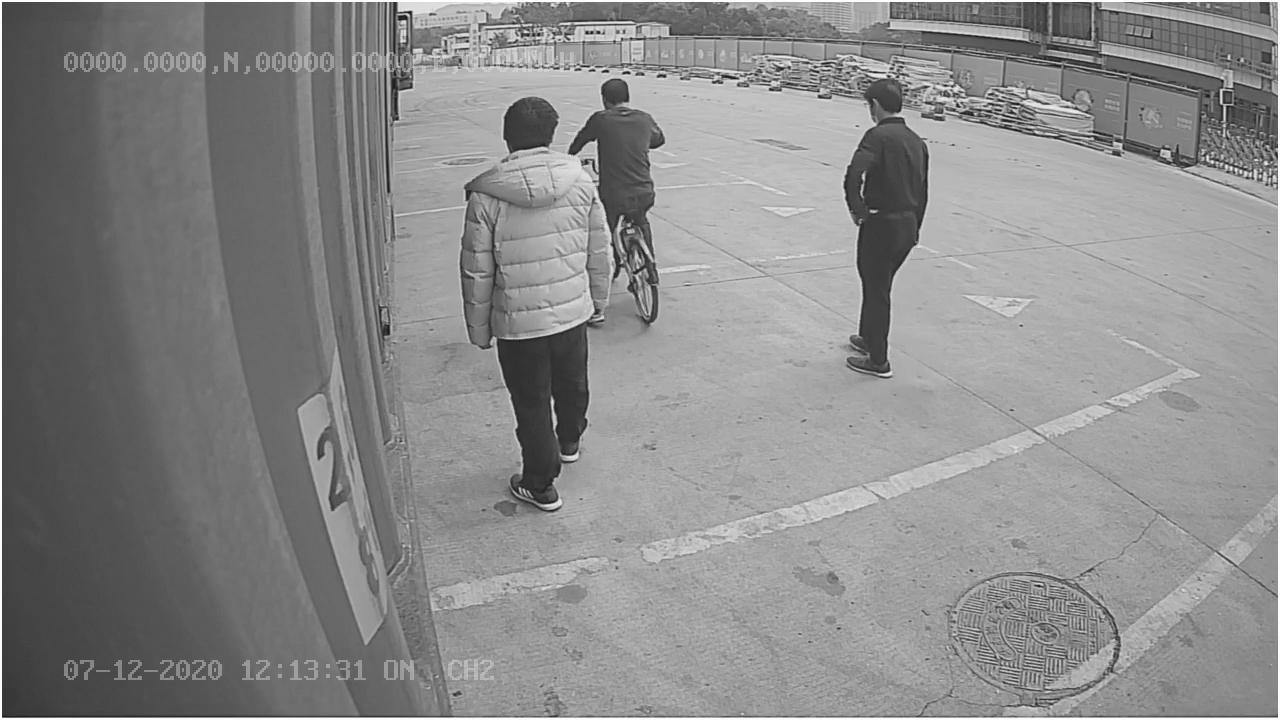person: (836, 78, 935, 379)
